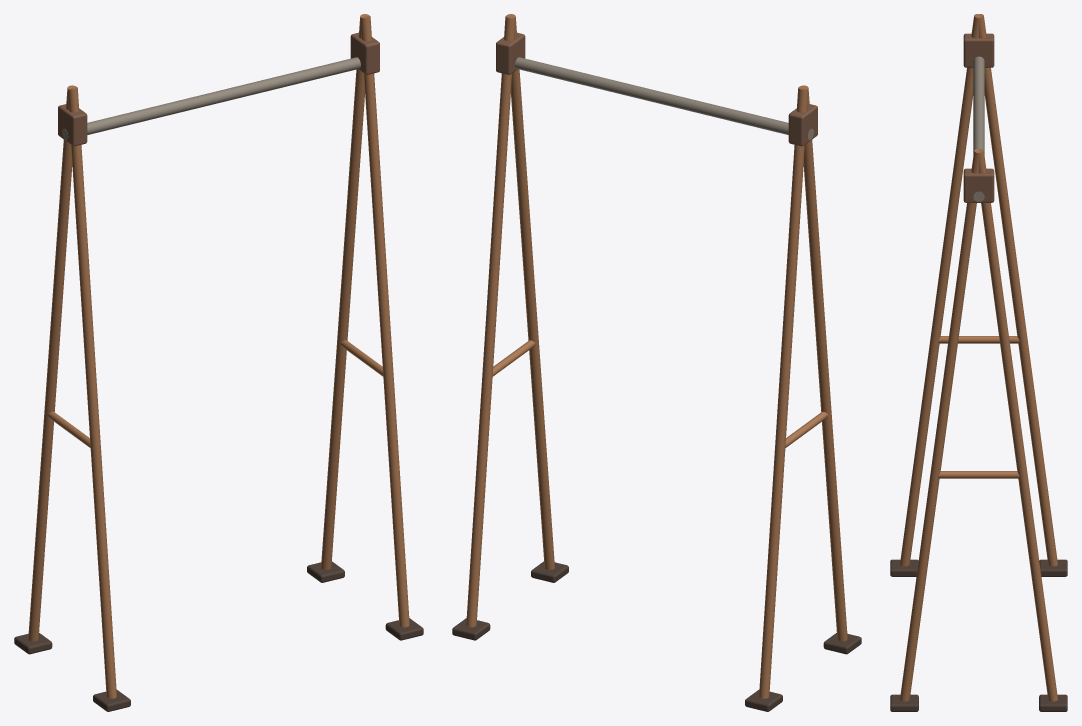
3 views of the same model, side by side, from view 1: azimuth 30°, elevation 25°; view 2: azimuth 150°, elevation 25°; view 3: azimuth 270°, elevation 25° (orthographic). The views are drawn at different scales.
Parts seen in each view (by area): view 1: rack-frame, garment-rail, rack-foot-pads, rack-rail-bosses; view 2: rack-frame, garment-rail, rack-foot-pads, rack-rail-bosses; view 3: rack-frame, rack-rail-bosses, rack-foot-pads, garment-rail.
Boxes of the visible parts, bbox=[...] form: rack-frame: bbox=[28, 14, 409, 698]; garment-rail: bbox=[62, 57, 360, 140]; rack-foot-pads: bbox=[14, 561, 423, 711]; rack-rail-bosses: bbox=[58, 32, 379, 146]; rack-frame: bbox=[466, 14, 847, 698]; garment-rail: bbox=[515, 57, 813, 140]; rack-foot-pads: bbox=[452, 561, 861, 711]; rack-rail-bosses: bbox=[496, 32, 817, 146]; rack-frame: bbox=[900, 14, 1057, 701]; rack-rail-bosses: bbox=[963, 33, 994, 202]; rack-foot-pads: bbox=[890, 559, 1067, 711]; garment-rail: bbox=[973, 56, 984, 201].
Bounding box in the file's own units: 0.917 × 1.62 × 0.47.
